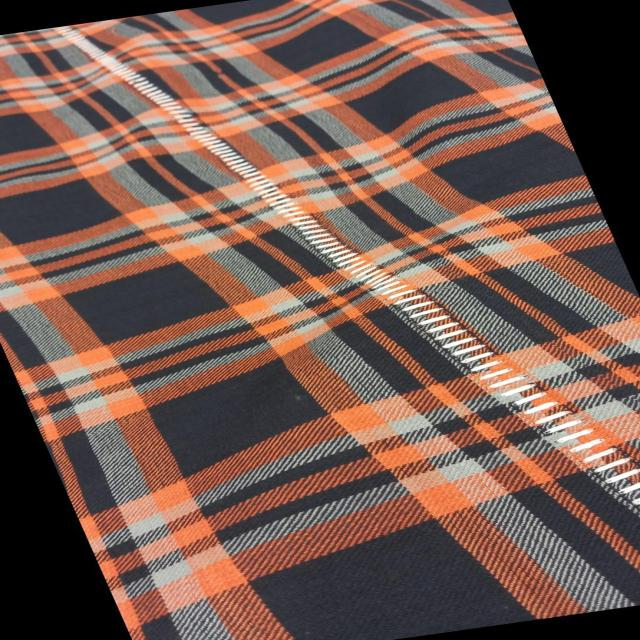gray stitch: (29, 0, 640, 640)
